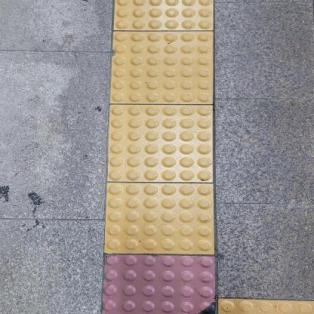Podoctatil: (96, 0, 313, 313)
